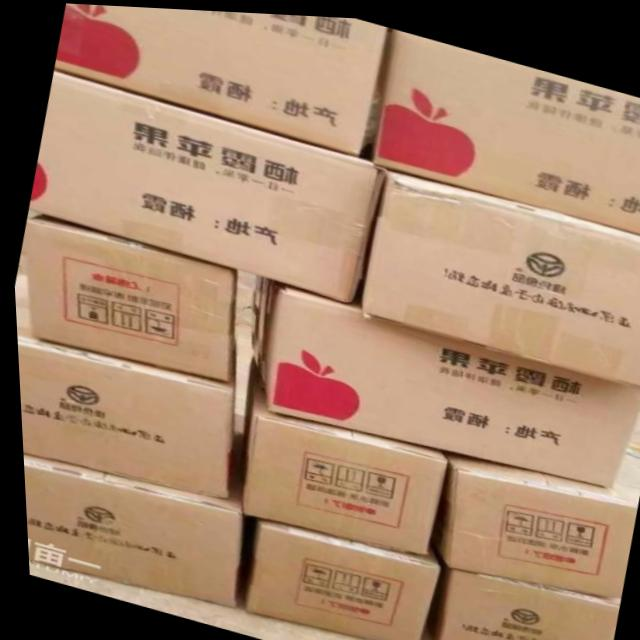box: (27, 68, 384, 304), (245, 274, 640, 483), (356, 165, 640, 386), (370, 27, 640, 230), (54, 3, 392, 156), (12, 272, 229, 497), (236, 362, 446, 554), (428, 404, 640, 591), (18, 433, 239, 604), (20, 216, 236, 380), (234, 517, 437, 640), (420, 565, 614, 640)
